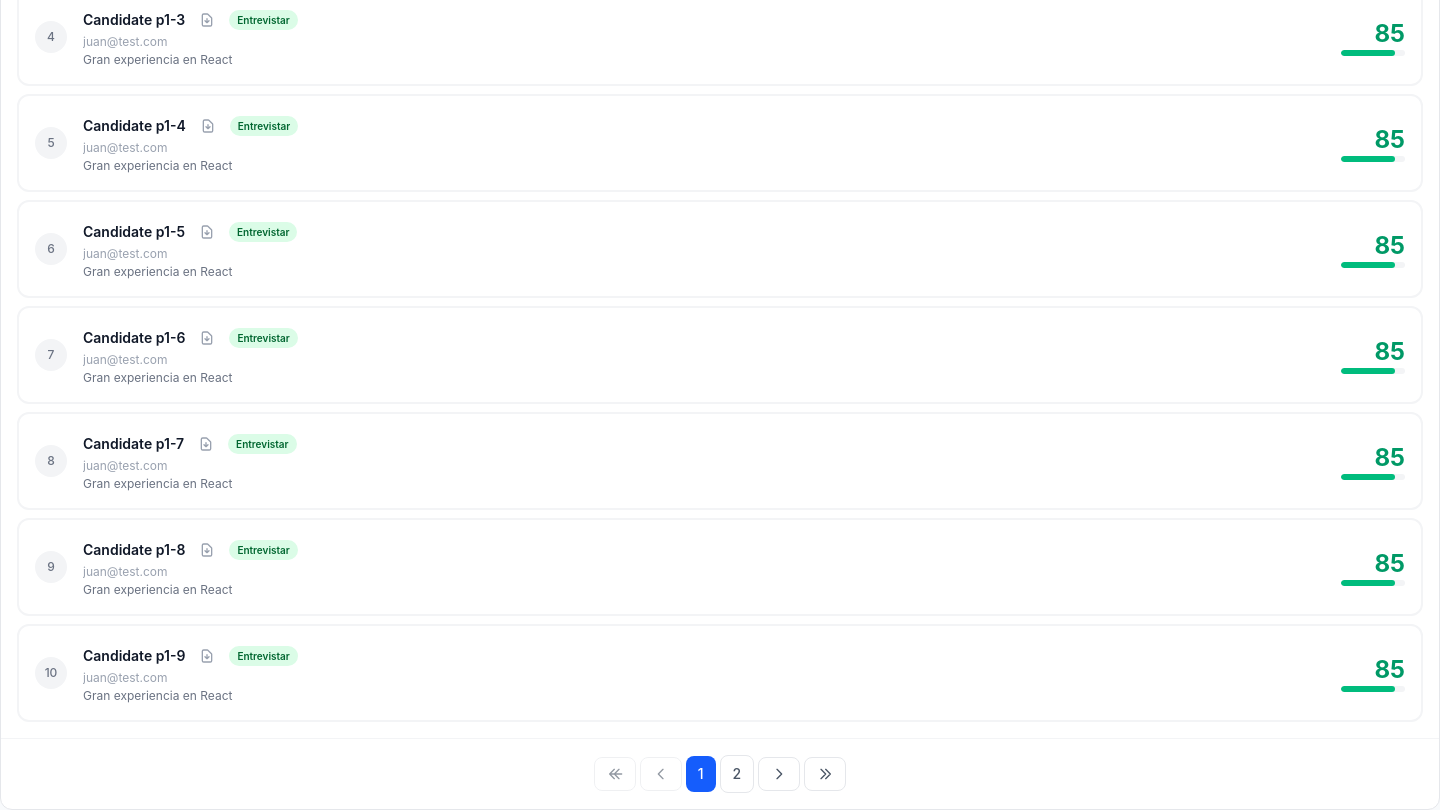
Scenario: CandidatesDashboard › navigates pages
(page scrolled)
Click the button "2".
click(737, 774)  # box 720,755 -> 754,793
(page scrolled)
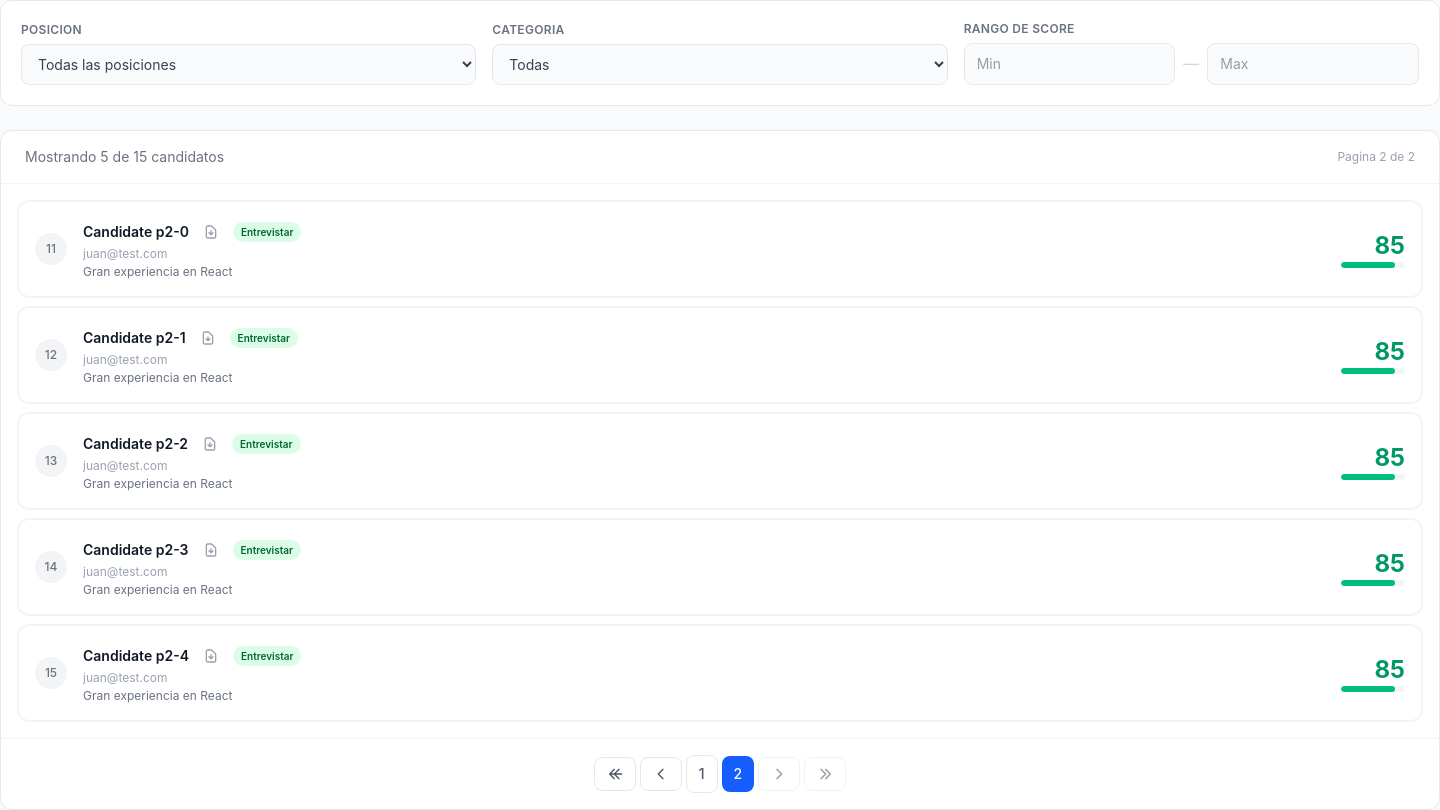
Result: the text "Pagina 2 de 2" is shown at 1337,149 -> 1415,165
